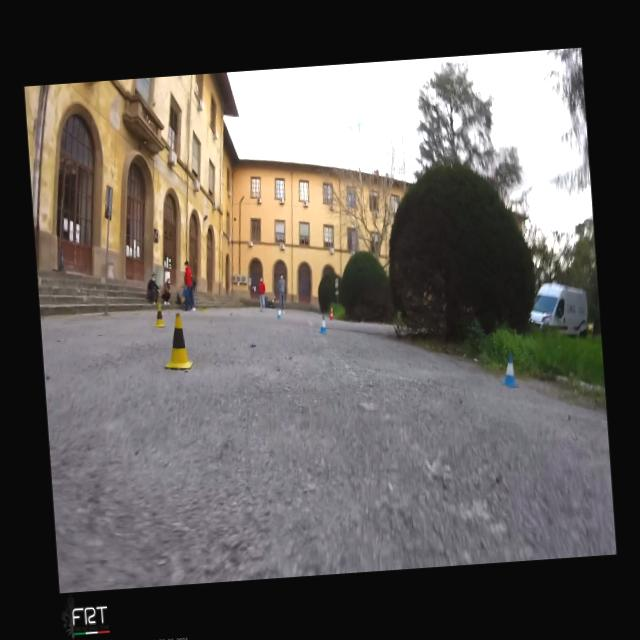blue_cone: (499, 353, 519, 389), (317, 314, 327, 334), (276, 308, 281, 319)
large_orange_cone: (328, 305, 334, 320)
yellow_cone: (160, 312, 193, 371), (152, 301, 165, 328), (202, 302, 206, 312)
